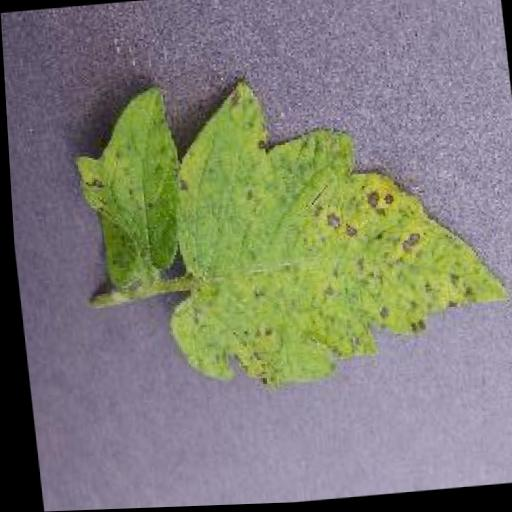Septoria: (63, 61, 509, 399)
